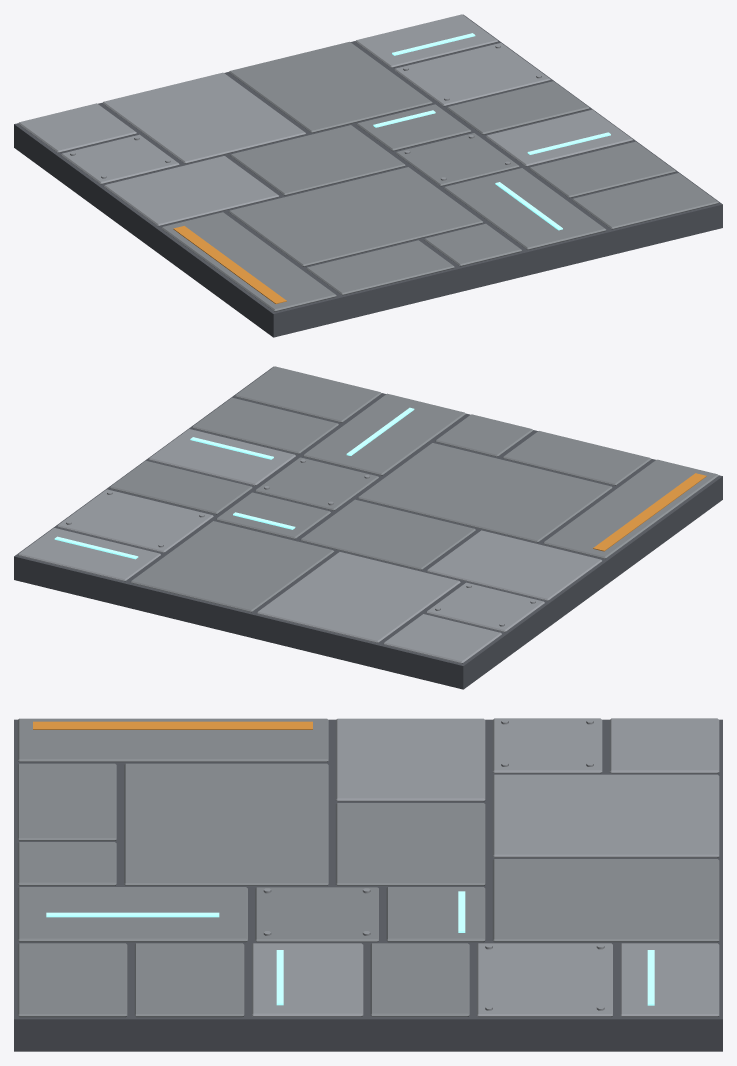
The model's file is floor_plate_b.glb.
3 renders of one model, top to bottom at view 1: azimuth 30°, elevation 25°; view 2: azimuth 150°, elevation 25°; view 3: azimuth 270°, elevation 25°, orthographic. The views are drawn at different scales.
Parts seen in each view (by area): view 1: floor_plate_b; view 2: floor_plate_b; view 3: floor_plate_b.
Part boxes in pixels (x1,y1,x2,y2): floor_plate_b: [14, 14, 722, 337]; floor_plate_b: [14, 366, 722, 689]; floor_plate_b: [14, 718, 722, 1051].
Bounding box in the file's own units: 4 × 0.2337 × 4.
